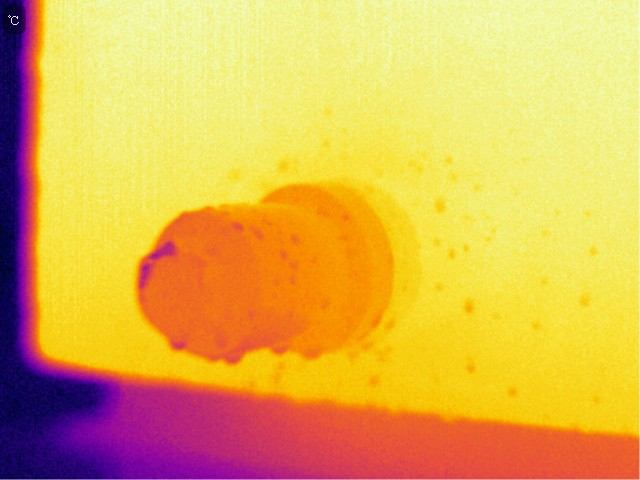Water: (222, 346, 246, 368), (268, 340, 293, 356), (169, 333, 186, 354), (301, 348, 319, 364), (229, 220, 248, 234), (208, 351, 223, 367), (289, 228, 303, 245)
